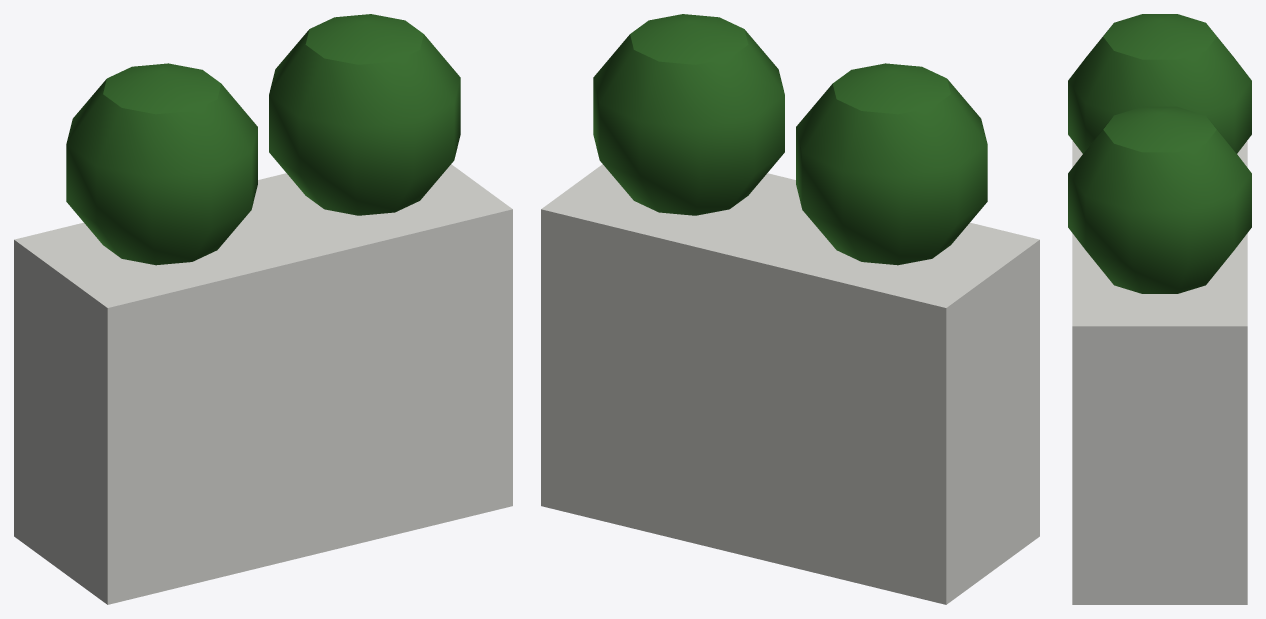
Rendered from office.planter.trough.glb.
3 renders of one model, left to right at view 1: azimuth 30°, elevation 25°; view 2: azimuth 150°, elevation 25°; view 3: azimuth 270°, elevation 25°, orthographic. The views are drawn at different scales.
Parts seen in each view (by area): view 1: main__laminate_white, main__foliage; view 2: main__laminate_white, main__foliage; view 3: main__laminate_white, main__foliage.
Part boxes in pixels (box(x1,y1,x2,y2)): main__laminate_white: box(14, 164, 512, 604); main__foliage: box(66, 14, 460, 265); main__laminate_white: box(541, 164, 1039, 604); main__foliage: box(593, 14, 987, 265); main__laminate_white: box(1072, 141, 1247, 604); main__foliage: box(1068, 14, 1251, 293).
Bounding box in the file's own units: 1 × 1.12 × 0.4185.
